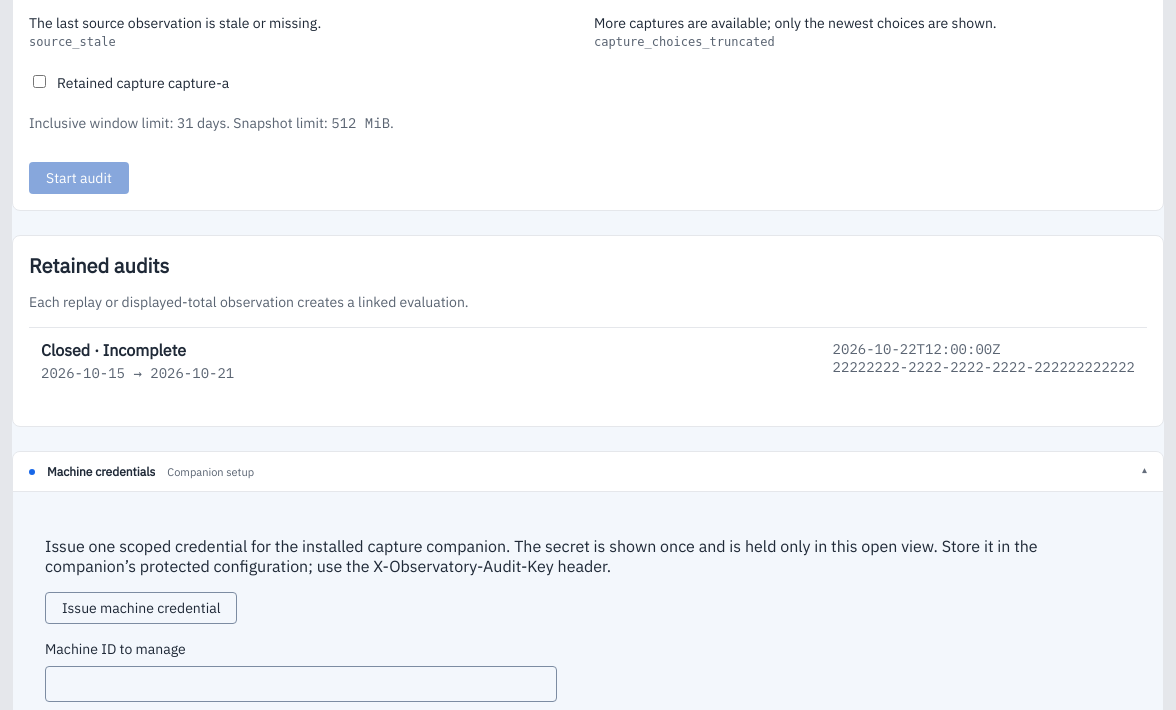
Scenario: retained reports expose each check outcome, exact coverage and exclusions
(page scrolled)
Step 1. Click the button with aria-label "Open audit" → (114, 350), box [29,327,1147,394]
(page scrolled)
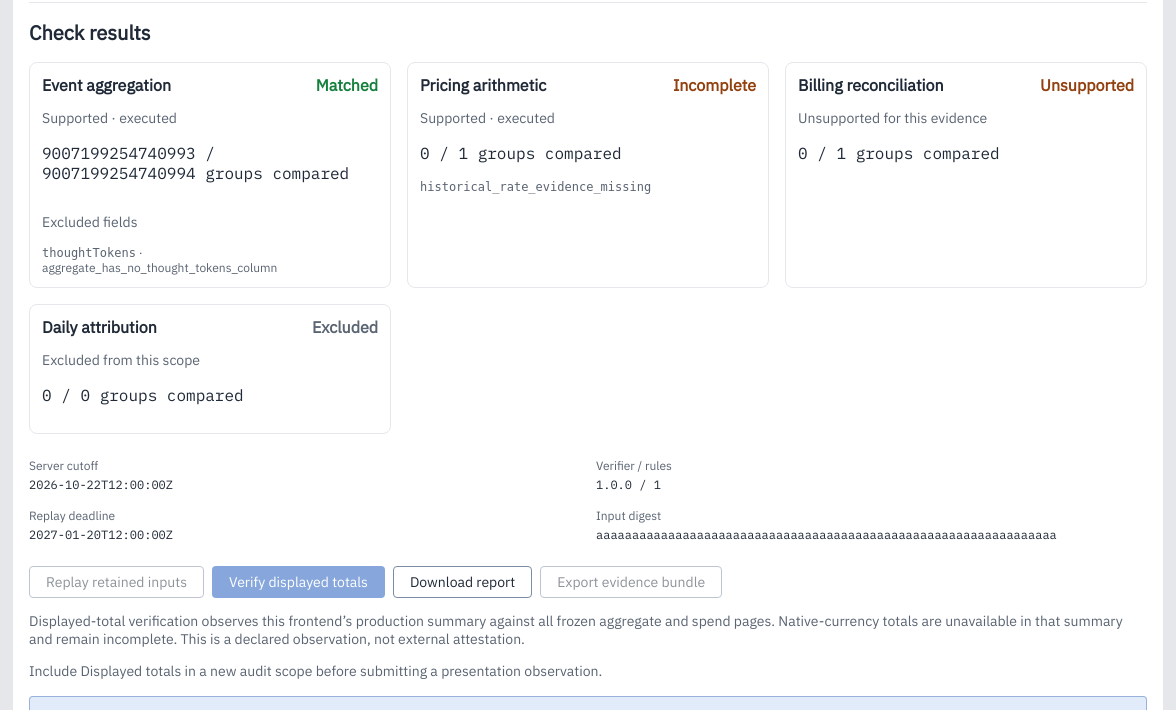
Expected: the heading "Event aggregation" is shown, [42,75,171,95]
Expected: the heading "Pricing arithmetic" is shown, [420,75,546,95]
Expected: the heading "Billing reconciliation" is shown, [798,75,944,95]
